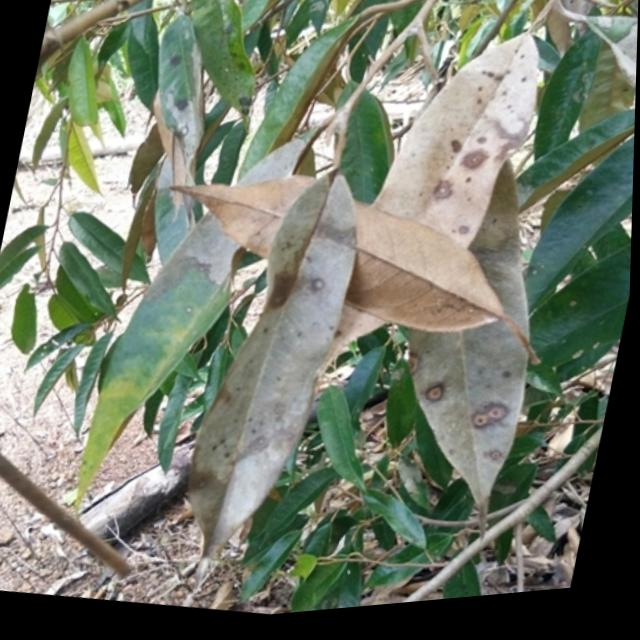Leaf Blight: (113, 0, 617, 616)
